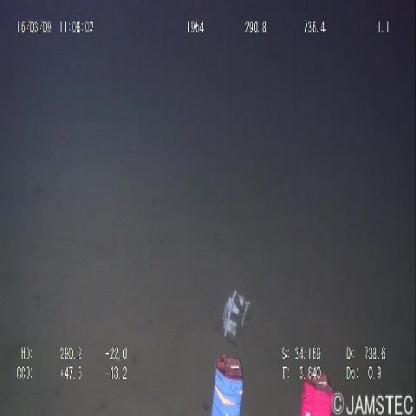Rov: (208, 350, 338, 414)
Rác: (217, 284, 254, 345)
